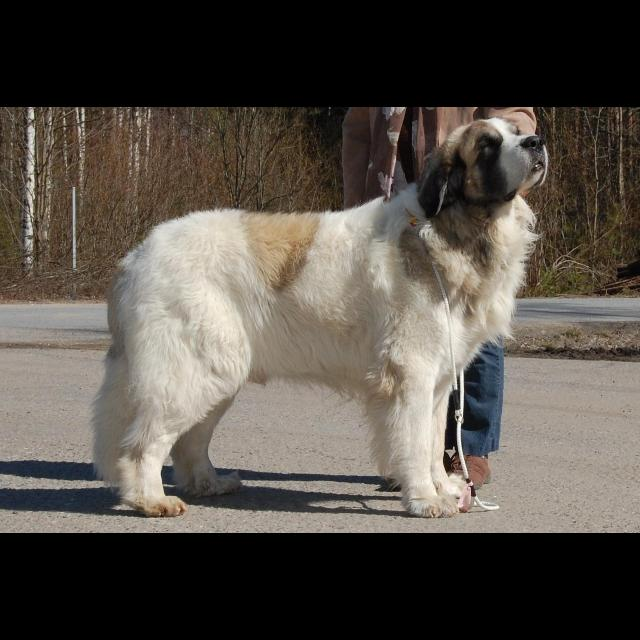other_dog_breed: (90, 117, 550, 521)
person: (343, 109, 540, 491)
